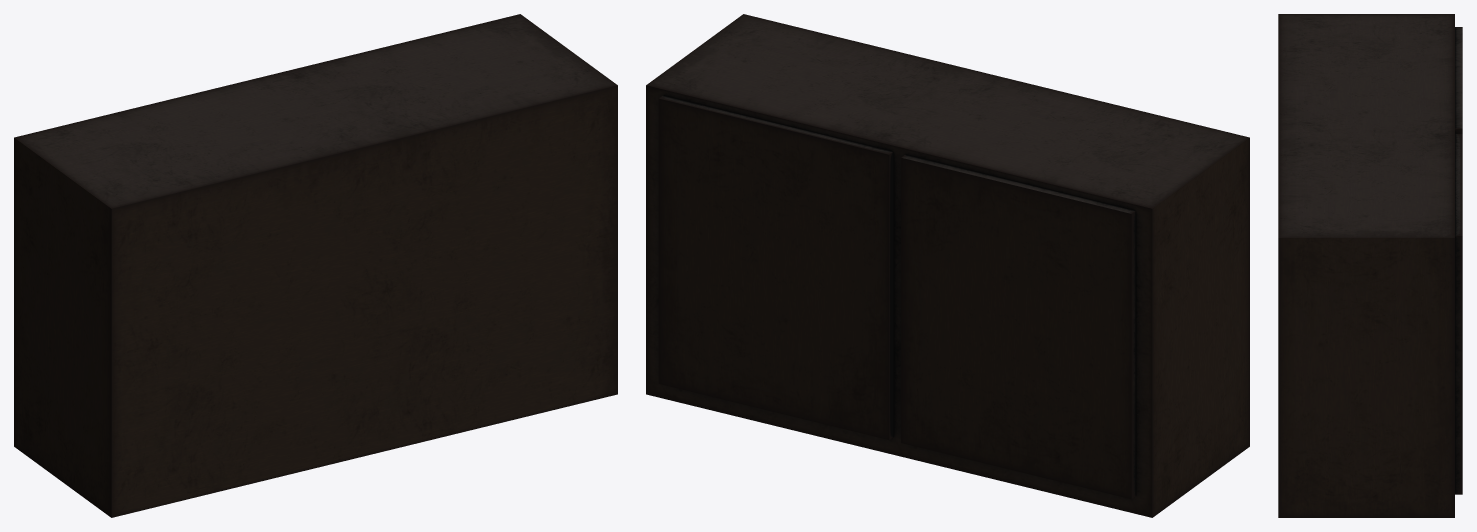
The model's file is cabinet2.fbx.
3 renders of one model, left to right at view 1: azimuth 30°, elevation 25°; view 2: azimuth 150°, elevation 25°; view 3: azimuth 270°, elevation 25°, orthographic. The views are drawn at different scales.
Parts seen in each view (by area): view 1: Cabinet; view 2: Cabinet; view 3: Cabinet.
Boxes of the visible parts, x1=… form: Cabinet: x1=14, y1=14, x2=617, y2=517; Cabinet: x1=646, y1=14, x2=1249, y2=517; Cabinet: x1=1278, y1=14, x2=1462, y2=517.
Bounding box in the file's own units: 600 × 350 × 208.
